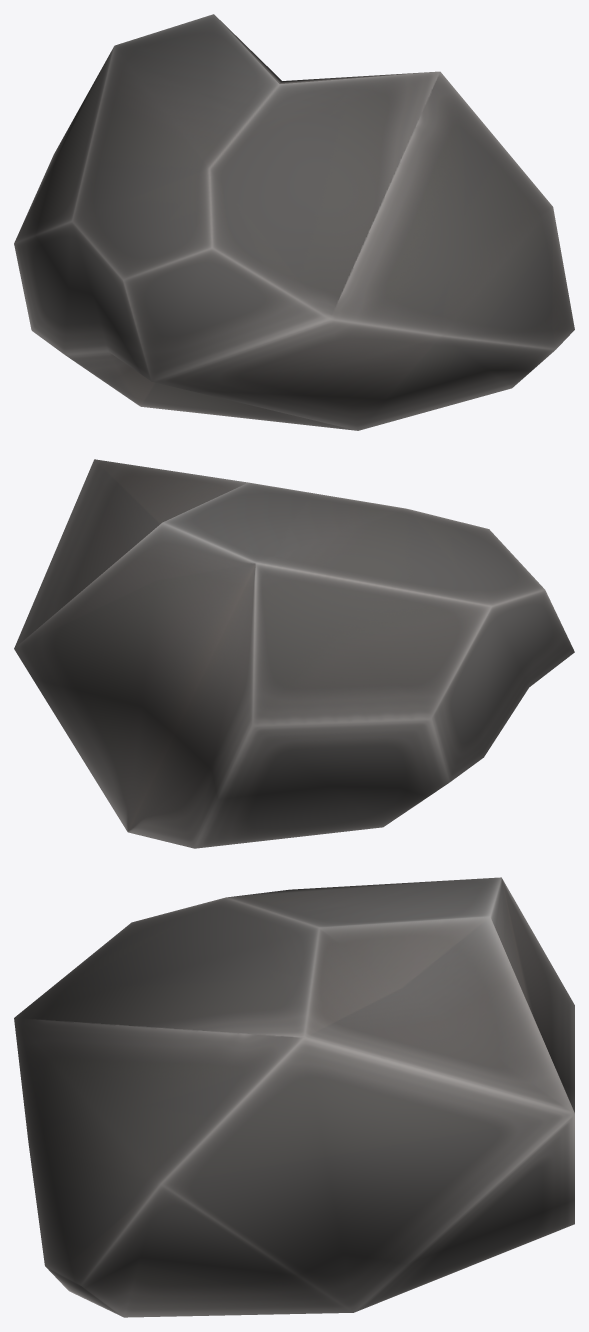
File: BigRock_02.gltf
3 renders of one model, top to bottom at view 1: azimuth 30°, elevation 25°; view 2: azimuth 150°, elevation 25°; view 3: azimuth 270°, elevation 25°, orthographic. The views are drawn at different scales.
Parts seen in each view (by area): view 1: Rock_2; view 2: Rock_2; view 3: Rock_2.
Boxes of the visible parts, <box> form: Rock_2: <box>14,14,574,430</box>; Rock_2: <box>14,459,574,848</box>; Rock_2: <box>14,877,574,1317</box>.
Bounding box in the file's own units: 7.61 × 4.59 × 7.55.
Materials: 1 (1 with a texture image).
